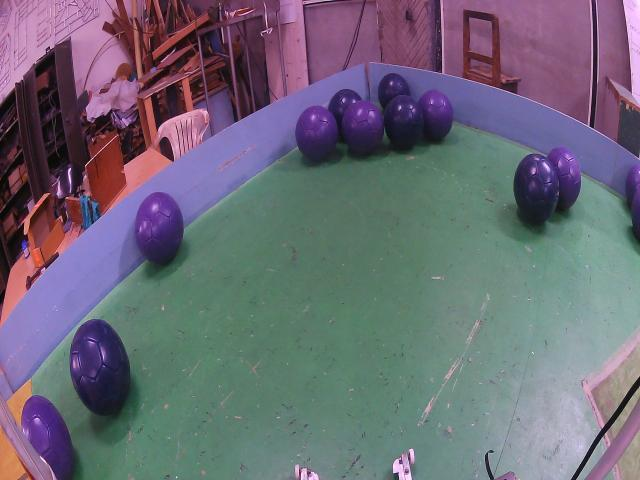jambhalya: (21, 395, 74, 480), (135, 192, 184, 263), (295, 105, 338, 161), (341, 100, 384, 155), (548, 147, 581, 210), (418, 90, 452, 140), (625, 165, 640, 208), (631, 185, 640, 242)
kaalyya: (70, 320, 130, 415), (514, 153, 560, 225), (384, 95, 424, 148), (328, 88, 361, 140), (378, 73, 410, 108)
